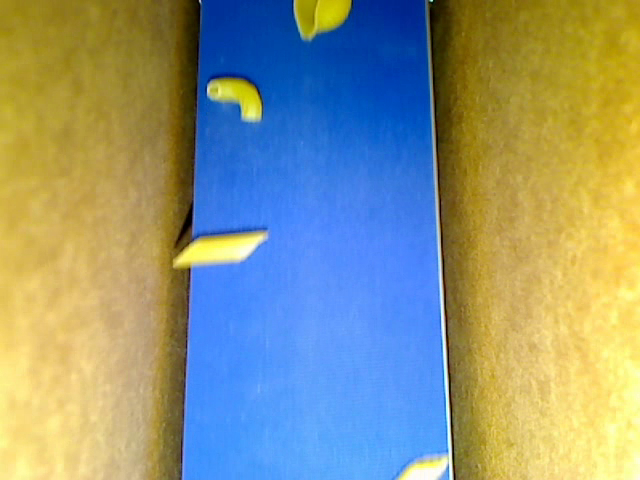elbow: (205, 77, 263, 121)
penne: (170, 231, 267, 265)
shell: (293, 1, 351, 43)
